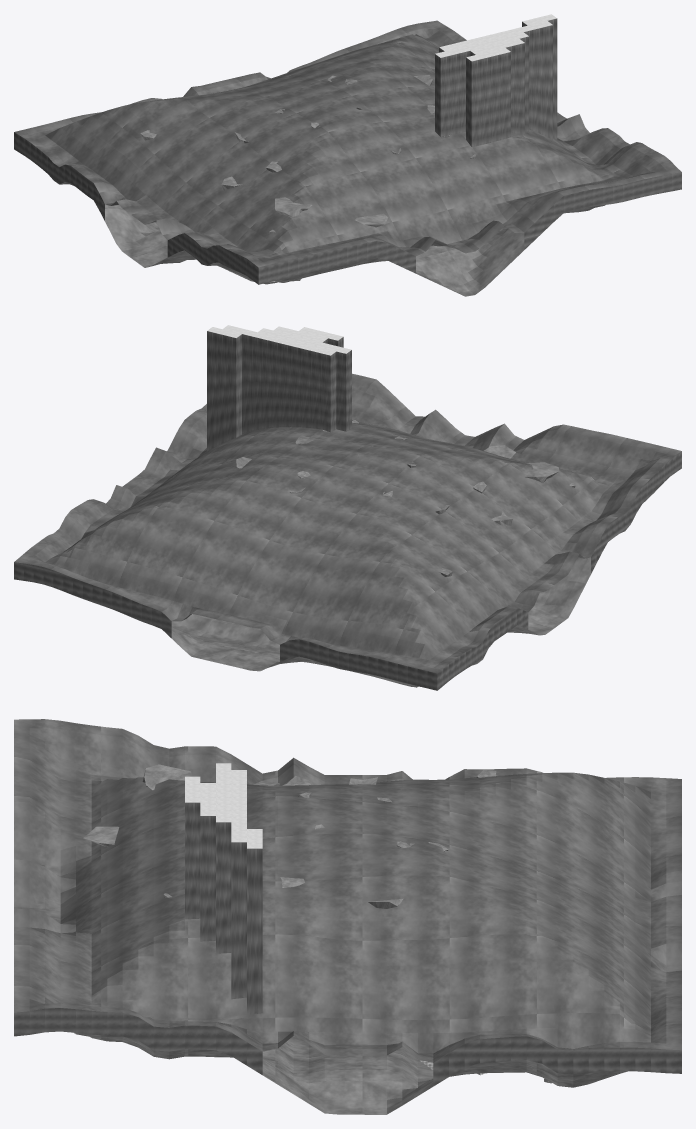
The picture shows the model from 3 angles, top to bottom: view 1: azimuth 30°, elevation 25°; view 2: azimuth 150°, elevation 25°; view 3: azimuth 270°, elevation 25°; orthographic projection. The views are drawn at different scales.
Visible parts, largest first — view 1: CavernVault, CavernShaft, CavernWalls, CavernFloor, CavernSkyCap, CavernStalactites, CavernColumns; view 2: CavernVault, CavernShaft, CavernWalls, CavernFloor, CavernSkyCap, CavernStalactites, CavernColumns; view 3: CavernVault, CavernWalls, CavernFloor, CavernShaft, CavernSkyCap, CavernStalactites, CavernColumns.
Part boxes in pixels (left/top/right/bottom): CavernVault: left=14, top=20, right=681, bottom=267; CavernShaft: left=435, top=18, right=557, bottom=146; CavernWalls: left=14, top=132, right=681, bottom=284; CavernFloor: left=60, top=182, right=605, bottom=296; CavernSkyCap: left=435, top=14, right=556, bottom=61; CavernStalactites: left=140, top=75, right=475, bottom=234; CavernColumns: left=275, top=75, right=432, bottom=281; CavernVault: left=14, top=373, right=681, bottom=673; CavernShaft: left=207, top=331, right=351, bottom=451; CavernWalls: left=14, top=451, right=681, bottom=690; CavernFloor: left=171, top=557, right=590, bottom=687; CavernSkyCap: left=207, top=325, right=351, bottom=355; CavernStalactites: left=289, top=420, right=575, bottom=576; CavernColumns: left=236, top=457, right=558, bottom=482; CavernVault: left=14, top=719, right=681, bottom=1062; CavernWalls: left=14, top=1008, right=681, bottom=1086; CavernFloor: left=74, top=1032, right=627, bottom=1114; CavernShaft: left=185, top=802, right=262, bottom=1014; CavernSkyCap: left=185, top=763, right=262, bottom=848; CavernStalactites: left=83, top=770, right=496, bottom=898; CavernColumns: left=142, top=764, right=403, bottom=908.
Bounding box in the file's own units: 92 × 42.14 × 92.
Materials: 6 (6 with a texture image).
